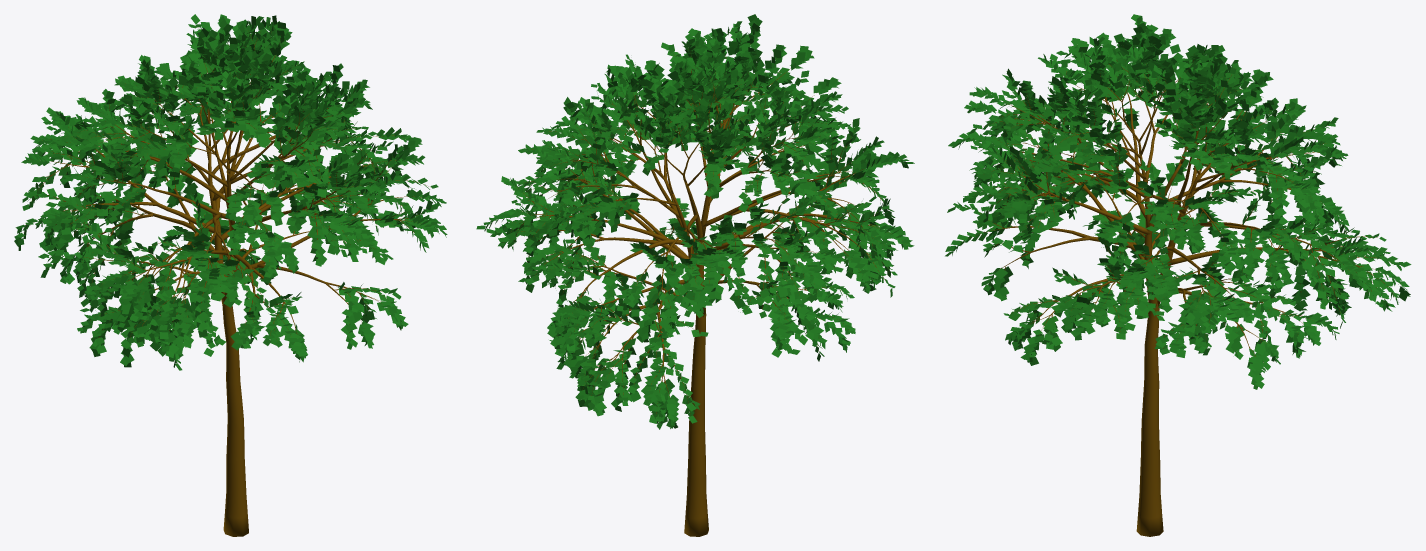
The model's file is GenTree-103_AE3D_03122023-F1.fbx.
The picture shows the model from 3 angles, left to right: view 1: azimuth 30°, elevation 25°; view 2: azimuth 150°, elevation 25°; view 3: azimuth 270°, elevation 25°; orthographic projection. The views are drawn at different scales.
Visible parts, largest first — view 1: GenTree - Twigs Leaf Bearing; view 2: GenTree - Twigs Leaf Bearing; view 3: GenTree - Twigs Leaf Bearing.
Part boxes in pixels (box(x1,y1,x2,y2)): GenTree - Twigs Leaf Bearing: box(14, 14, 447, 536); GenTree - Twigs Leaf Bearing: box(476, 14, 914, 536); GenTree - Twigs Leaf Bearing: box(945, 14, 1411, 536).
Bounding box in the file's own units: 1320 × 1684 × 1456.
